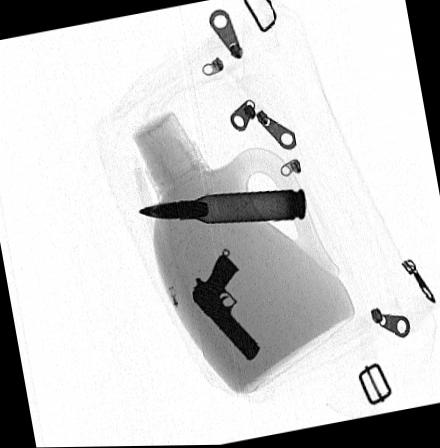Bullet: (135, 188, 306, 225)
Gun: (188, 251, 261, 364)
